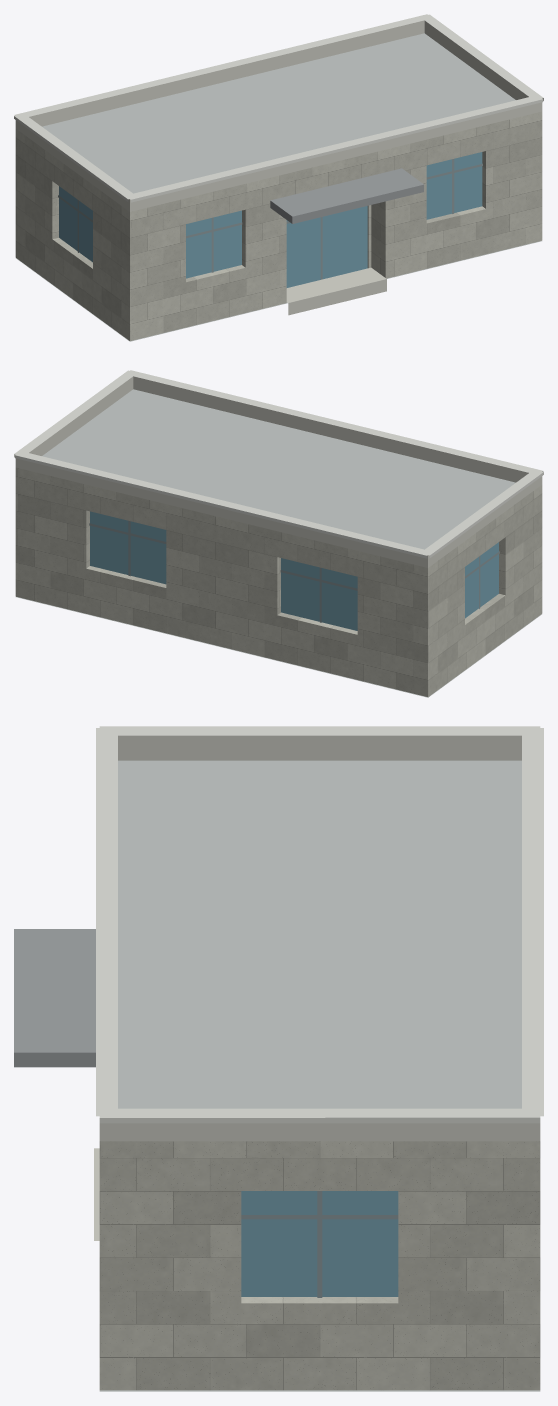
The picture shows the model from 3 angles, top to bottom: view 1: azimuth 30°, elevation 25°; view 2: azimuth 150°, elevation 25°; view 3: azimuth 270°, elevation 25°; orthographic projection. The views are drawn at different scales.
Visible parts, largest first — view 1: osm1553113484__wall, unist-batch-osm1553113484__parapet, osm1553113484__glass, osm1553113484__trim, osm1553113484__canopy, osm1553113484__entranceThreshold_0, osm1553113484__frame; view 2: osm1553113484__wall, unist-batch-osm1553113484__parapet, osm1553113484__glass, osm1553113484__trim, osm1553113484__frame; view 3: unist-batch-osm1553113484__parapet, osm1553113484__wall, osm1553113484__trim, osm1553113484__glass, osm1553113484__canopy, osm1553113484__frame.
Part boxes in pixels (x1,y1,x2,y2): osm1553113484__wall: [15, 111, 542, 340]; unist-batch-osm1553113484__parapet: [15, 20, 542, 341]; osm1553113484__glass: [59, 152, 482, 287]; osm1553113484__trim: [14, 14, 543, 202]; osm1553113484__canopy: [270, 168, 423, 223]; osm1553113484__entranceThreshold_0: [286, 267, 386, 315]; osm1553113484__frame: [58, 159, 482, 279]; osm1553113484__wall: [15, 467, 542, 696]; unist-batch-osm1553113484__parapet: [15, 376, 542, 697]; osm1553113484__glass: [90, 511, 498, 630]; osm1553113484__trim: [14, 370, 543, 558]; osm1553113484__frame: [89, 521, 499, 622]; unist-batch-osm1553113484__parapet: [99, 735, 540, 1391]; osm1553113484__wall: [99, 1141, 540, 1390]; osm1553113484__trim: [96, 726, 543, 1123]; osm1553113484__glass: [241, 1191, 398, 1296]; osm1553113484__canopy: [14, 929, 95, 1067]; osm1553113484__frame: [241, 1191, 398, 1297].
Bounding box in the file's own units: 15.16 × 5.35 × 8.67.
Materials: 7 (1 with a texture image).
